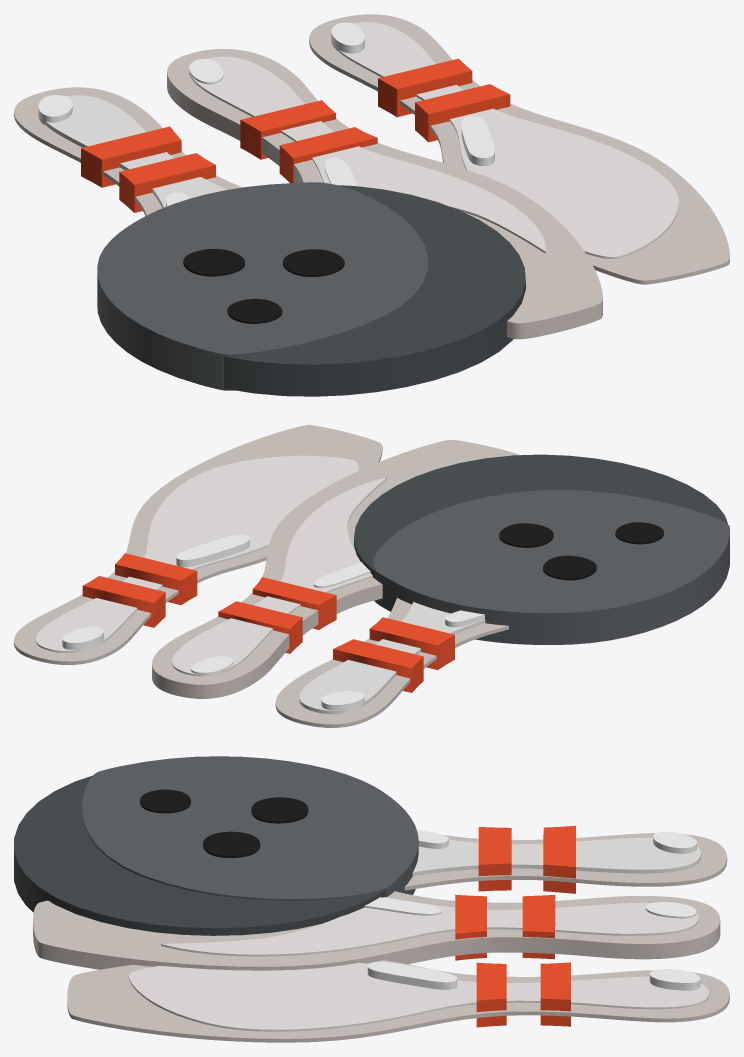
File: emoji_u1f3b3.glb
The picture shows the model from 3 angles, top to bottom: view 1: azimuth 30°, elevation 25°; view 2: azimuth 150°, elevation 25°; view 3: azimuth 270°, elevation 25°; orthographic projection. The views are drawn at different scales.
Visible parts, largest first — view 1: emoji_u1f3b3; view 2: emoji_u1f3b3; view 3: emoji_u1f3b3.
Boxes of the visible parts, x1,y1,x2,y2 form: emoji_u1f3b3: (14,14,729,396); emoji_u1f3b3: (14,425,729,727); emoji_u1f3b3: (14,756,729,1042).
Size of the model in its own units: 0.0301 by 0.002 by 0.034.
